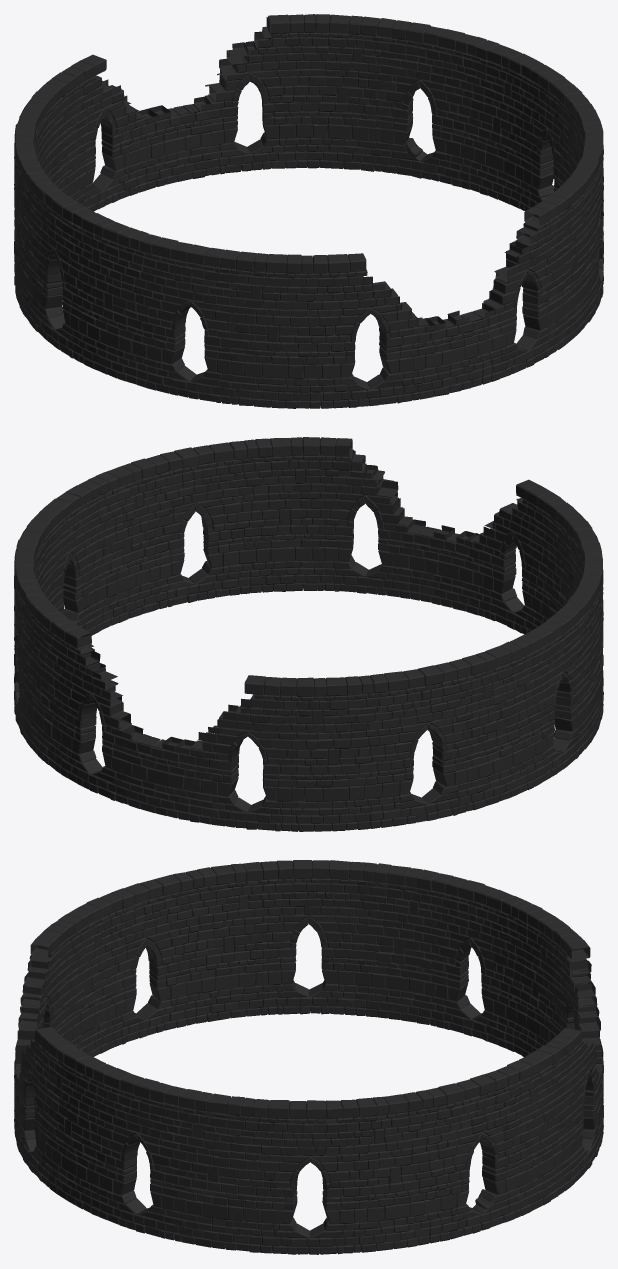
The model's file is ArenaWall (1).fbx.
The picture shows the model from 3 angles, top to bottom: view 1: azimuth 30°, elevation 25°; view 2: azimuth 150°, elevation 25°; view 3: azimuth 270°, elevation 25°; orthographic projection.
Parts seen in each view (by area): view 1: Wall; view 2: Wall; view 3: Wall.
Boxes of the visible parts, left/top/right/bottom form: Wall: left=14, top=14, right=603, bottom=408; Wall: left=14, top=437, right=603, bottom=831; Wall: left=14, top=860, right=603, bottom=1254.
Bounding box in the file's own units: 9892 × 2725 × 9889.
Materials: 1 (1 with a texture image).
